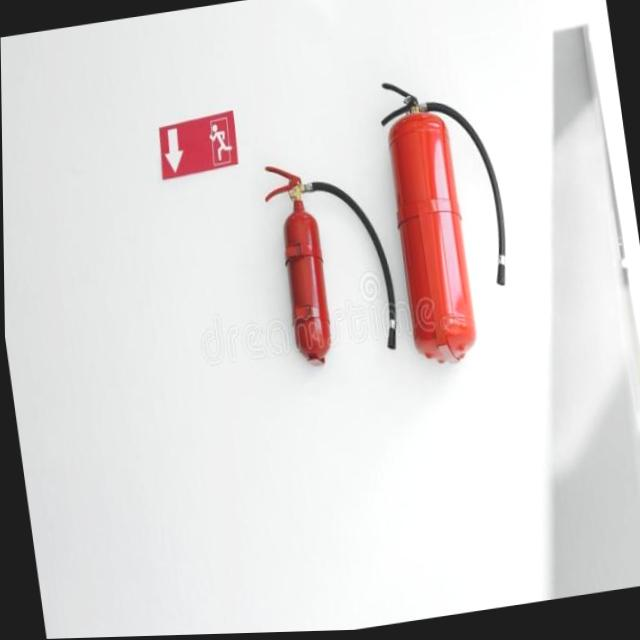FireExtinguisher: (367, 59, 526, 378), (252, 148, 405, 385)
